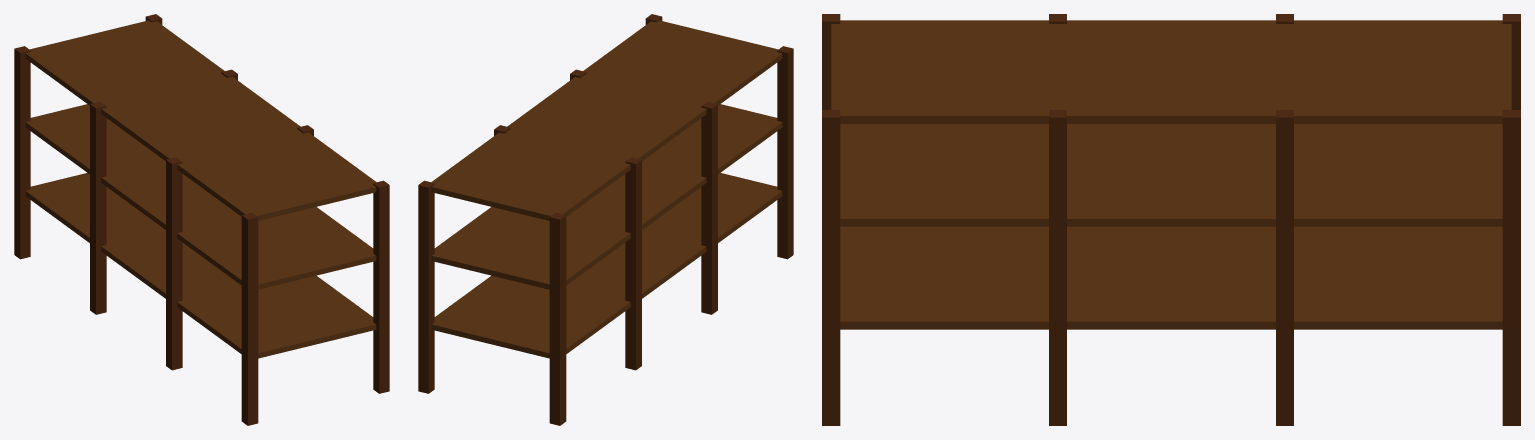
File: MBS_City_Shelf01.fbx
The picture shows the model from 3 angles, left to right: view 1: azimuth 30°, elevation 25°; view 2: azimuth 150°, elevation 25°; view 3: azimuth 270°, elevation 25°; orthographic projection. The views are drawn at different scales.
Visible parts, largest first — view 1: Cube.600; view 2: Cube.600; view 3: Cube.600.
Part boxes in pixels (left/top/right/bottom): Cube.600: left=14, top=14, right=389, bottom=425; Cube.600: left=418, top=14, right=793, bottom=425; Cube.600: left=822, top=14, right=1520, bottom=425.
Bounding box in the file's own units: 216 × 300 × 616.
